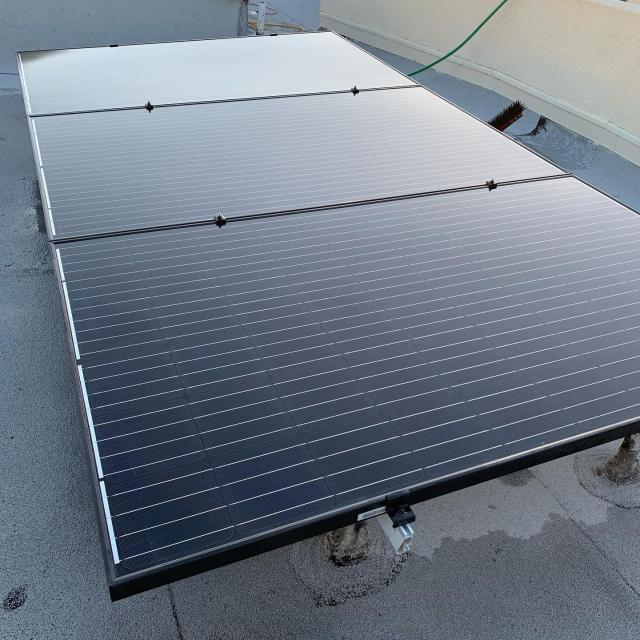clean-solar-panel: (20, 33, 640, 598)
